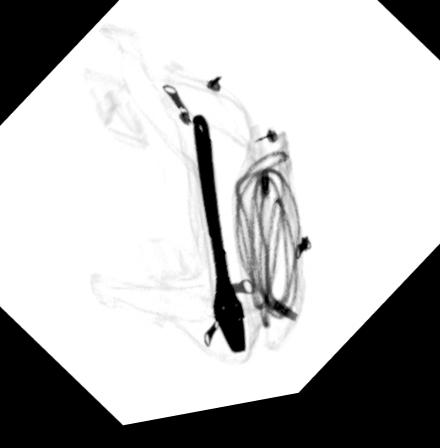Wrench: (188, 117, 248, 364)
